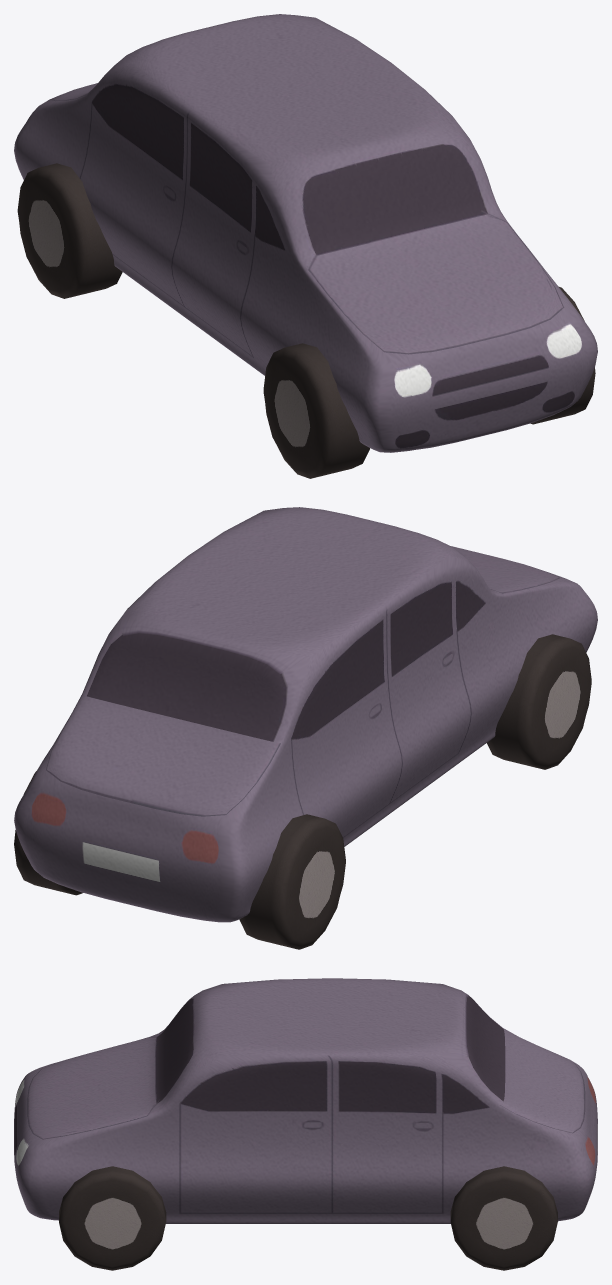
Rendered from car_3.fbx.
3 renders of one model, top to bottom at view 1: azimuth 30°, elevation 25°; view 2: azimuth 150°, elevation 25°; view 3: azimuth 270°, elevation 25°, orthographic. The views are drawn at different scales.
Parts seen in each view (by area): view 1: pCube46, pCylinder42, pCylinder41, pCylinder39; view 2: pCube46, pCylinder41, pCylinder42, pCylinder40; view 3: pCube46, pCylinder39, pCylinder40.
Part boxes in pixels (<box>): pCube46: <box>14,14,597,452</box>; pCylinder42: <box>263,343,369,478</box>; pCylinder41: <box>17,163,122,298</box>; pCylinder39: <box>530,286,595,424</box>; pCube46: <box>14,507,597,922</box>; pCylinder41: <box>239,814,345,949</box>; pCylinder42: <box>487,634,591,769</box>; pCylinder40: <box>14,771,82,895</box>; pCube46: <box>14,978,597,1223</box>; pCylinder39: <box>59,1166,166,1270</box>; pCylinder40: <box>450,1166,557,1270</box>.
Bounding box in the file's own units: 92.69 × 83.16 × 215.
2 materials, 2 textured.
